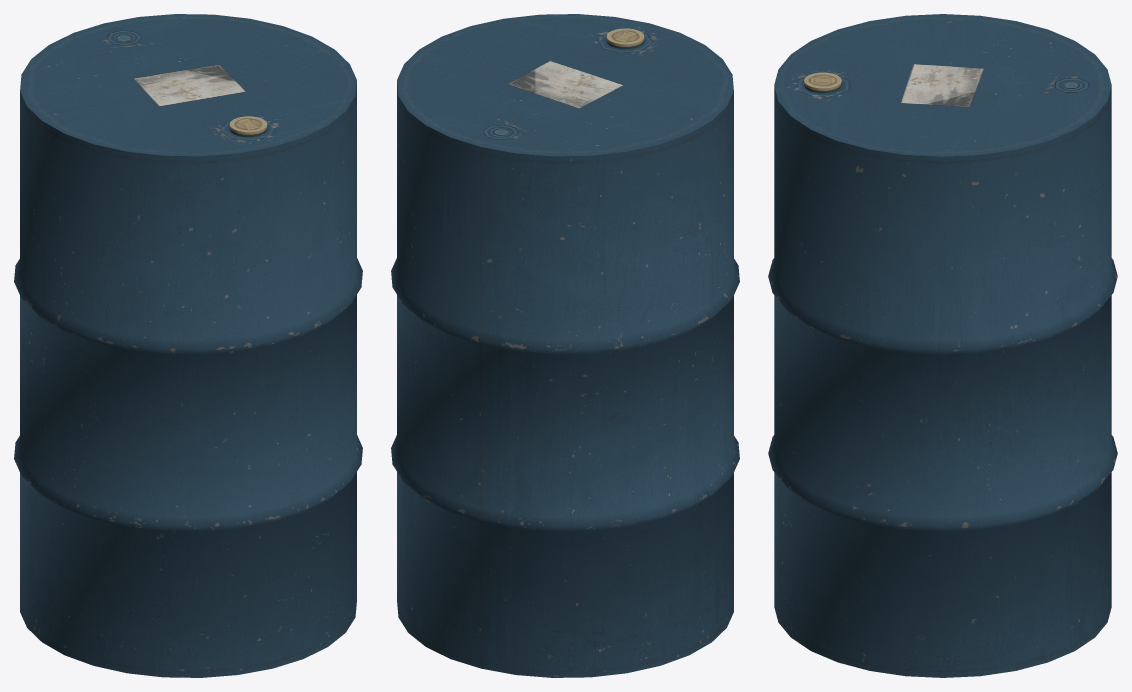
Rendered from brl.FBX.
The picture shows the model from 3 angles, left to right: view 1: azimuth 30°, elevation 25°; view 2: azimuth 150°, elevation 25°; view 3: azimuth 270°, elevation 25°; orthographic projection.
Parts seen in each view (by area): view 1: brl; view 2: brl; view 3: brl.
Boxes of the visible parts, x1,y1,x2,y2 form: brl: (14, 14, 362, 677); brl: (391, 14, 739, 677); brl: (768, 14, 1117, 677).
Size of what is drawn, in the model's own units: 54.74 by 90.88 by 54.74.
Materials: 1 (1 with a texture image).
